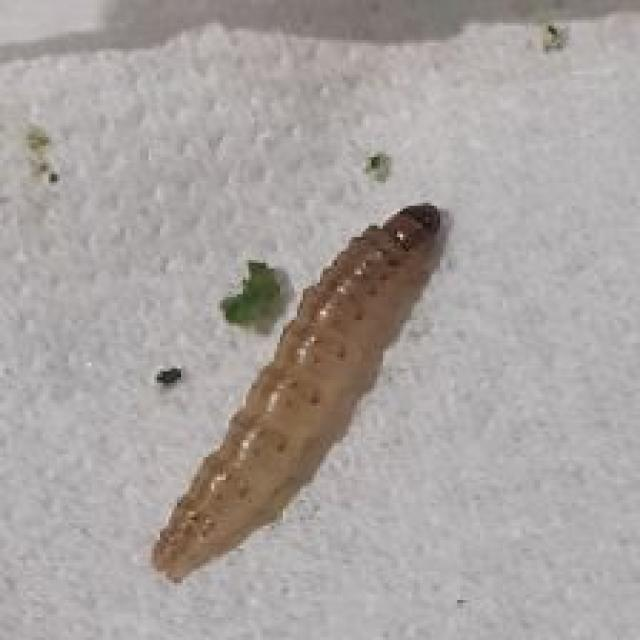white mucus: (145, 187, 500, 573)
